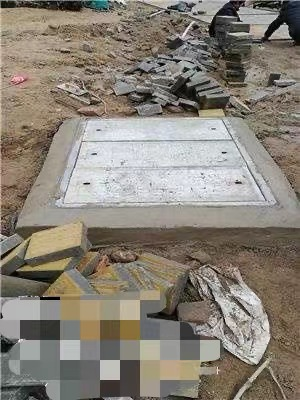well: (51, 117, 277, 209)
